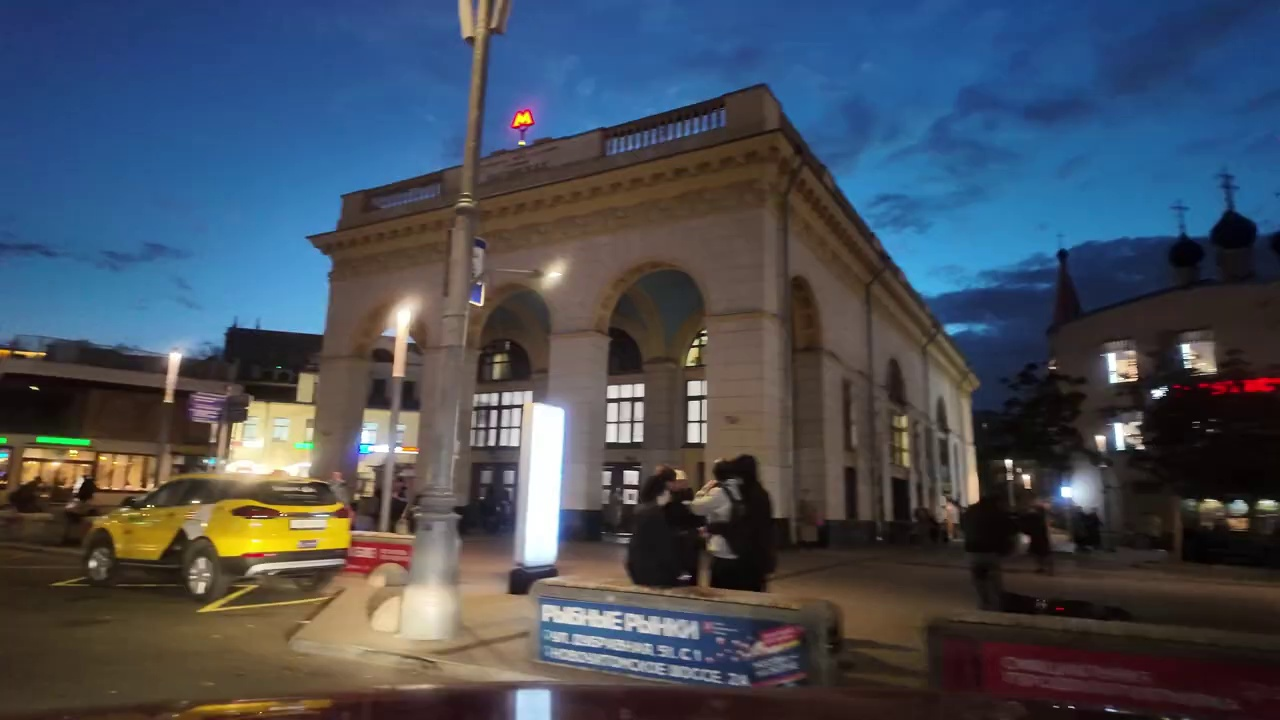acesa: (386, 297, 420, 337), (539, 258, 567, 296)
